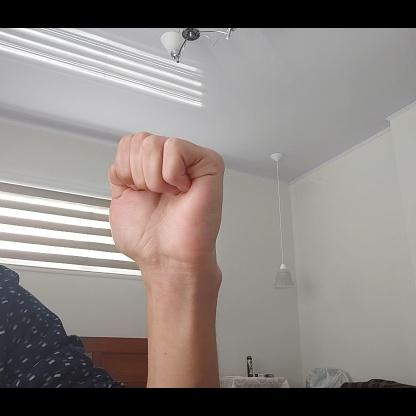A: (107, 133, 229, 272)
